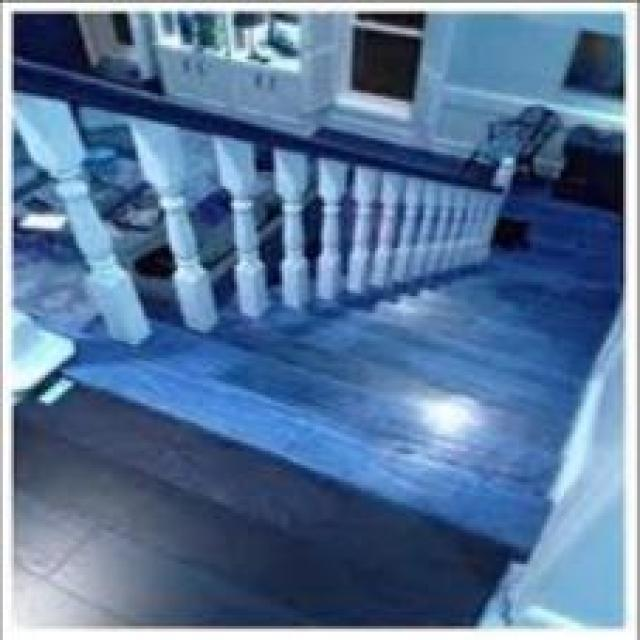stair: (71, 251, 542, 536)
